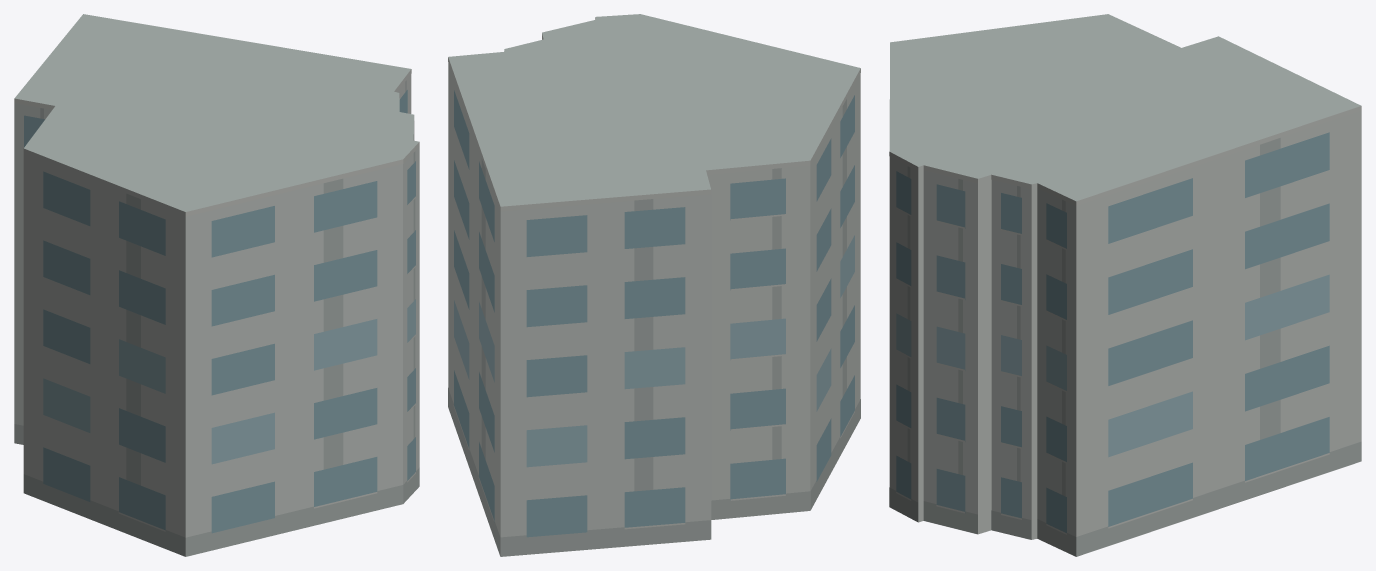
File: survey-upis-32489975.glb
The picture shows the model from 3 angles, left to right: view 1: azimuth 30°, elevation 25°; view 2: azimuth 150°, elevation 25°; view 3: azimuth 270°, elevation 25°; orthographic projection. The views are drawn at different scales.
Parts seen in each view (by area): view 1: survey-upis-32489975.tmp; view 2: survey-upis-32489975.tmp; view 3: survey-upis-32489975.tmp.
Boxes of the visible parts, bbox=[...] form: survey-upis-32489975.tmp: bbox=[14, 14, 419, 556]; survey-upis-32489975.tmp: bbox=[448, 14, 860, 556]; survey-upis-32489975.tmp: bbox=[889, 14, 1361, 556].
Bounding box in the file's own units: 20.23 × 17.9 × 21.55.
